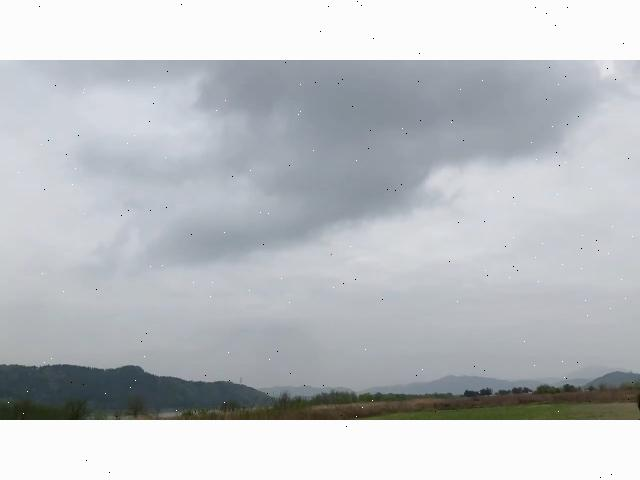Anti-Drone: (324, 244, 348, 263)
